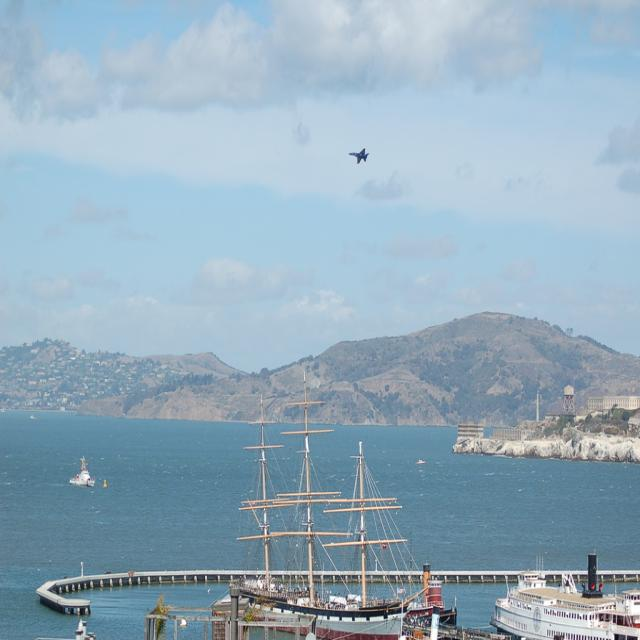Boat: (231, 367, 429, 639), (492, 553, 638, 639)
